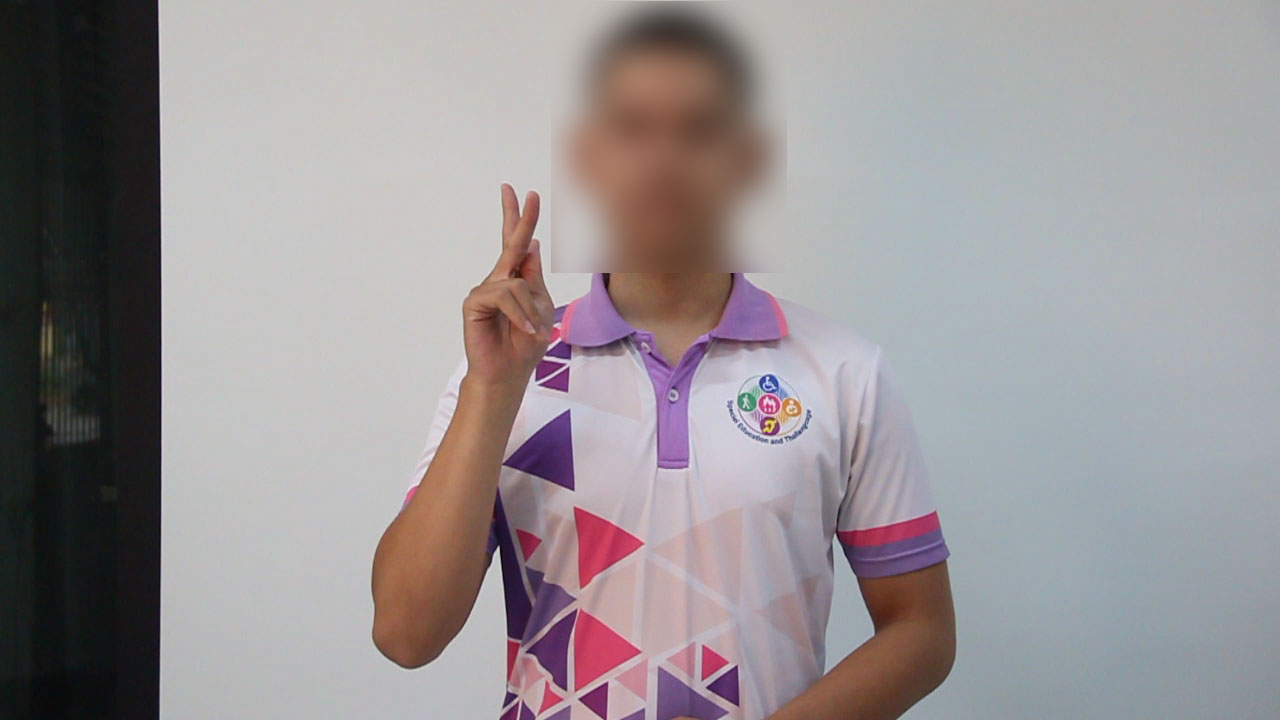ko: (419, 162, 595, 390)
